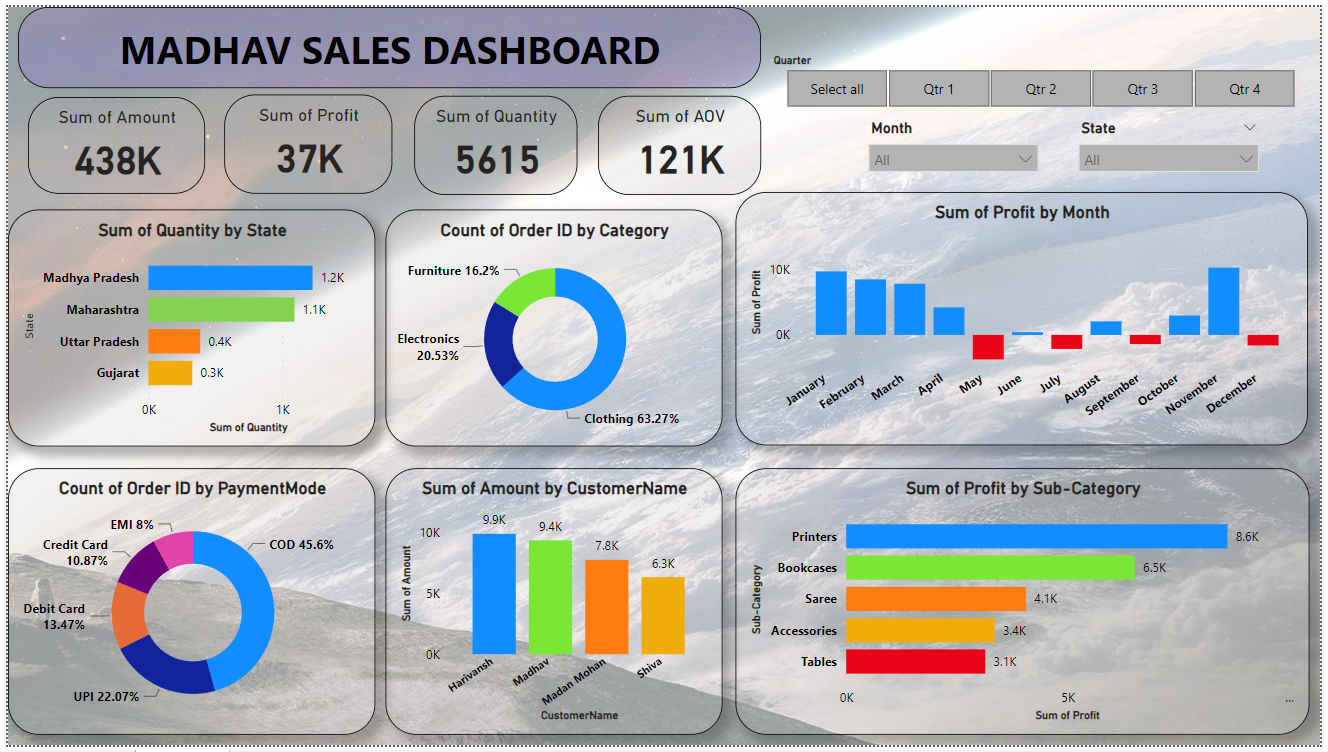

This screenshot's page, from the dashboard's own definition file:
{"tool":"powerbi","page":{"name":"Page 1","canvas":[1280,720],"ordinal":0},"visuals":[{"type":"donutChart","fields":{"Category":["Details.Category"],"Y":["Details.Order ID"]},"box":[368.6,197.1,328.6,231.4],"z":0},{"type":"barChart","fields":{"Category":["Orders.State"],"Y":["Details.Quantity"]},"box":[0,197.1,358.6,231.4],"z":1000},{"type":"card","title":"Sum of Amount","fields":{"Values":["Details.Amount"]},"box":[19.2,87.8,172.9,94.7],"z":2000},{"type":"card","title":"Sum of Profit","fields":{"Values":["Details.Profit"]},"box":[211.1,85.6,164,96.5],"z":3000},{"type":"card","title":"Sum of Quantity","fields":{"Values":["Details.Quantity"]},"box":[396.8,86.8,159.2,96.5],"z":4000},{"type":"donutChart","fields":{"Category":["Details.PaymentMode"],"Y":["Details.Order ID"]},"box":[0,450,358.6,260],"z":5000},{"type":"clusteredColumnChart","fields":{"Category":["Orders.CustomerName"],"Y":["Details.Amount"]},"box":[368.6,450,328.6,260],"z":6000},{"type":"columnChart","fields":{"Category":["Orders.Order Date.Variation.Date Hierarchy.Month"],"Y":["Details.Profit"]},"box":[710.4,180.9,558.4,247.2],"z":7000},{"type":"barChart","fields":{"Category":["Details.Sub-Category"],"Y":["Details.Profit"]},"box":[710,450,560,260],"z":8000},{"type":"slicer","fields":{"Values":["Orders.Order Date.Variation.Date Hierarchy.Quarter"]},"box":[734.5,39.8,545.1,63.9],"z":9000},{"type":"slicer","fields":{"Values":["Orders.Order Date.Variation.Date Hierarchy.Month"]},"box":[829,104.9,185.7,57.9],"z":10000},{"type":"slicer","fields":{"Values":["Orders.State"]},"box":[1033.6,104.9,196.6,59.1],"z":11000},{"type":"textbox","box":[9.6,0,724.5,79.6],"z":12000},{"type":"card","title":"Sum of AOV","fields":{"Values":["Details.Sum of AOV"]},"box":[575.3,86.8,159.2,96.5],"z":13000}]}

Visuals, with their boxes in screenshot pixels (x1, y1, x2, y2), scaled from the page's 1280x720 canvas onto the 1328x752 screenshot:
donutChart - Details.Category x Details.Order ID: (x1=382, y1=206, x2=723, y2=448)
barChart - Orders.State x Details.Quantity: (x1=0, y1=206, x2=372, y2=448)
"Sum of Amount" card: (x1=20, y1=92, x2=199, y2=191)
"Sum of Profit" card: (x1=219, y1=89, x2=389, y2=190)
"Sum of Quantity" card: (x1=412, y1=91, x2=577, y2=191)
donutChart - Details.PaymentMode x Details.Order ID: (x1=0, y1=470, x2=372, y2=742)
clusteredColumnChart - Orders.CustomerName x Details.Amount: (x1=382, y1=470, x2=723, y2=742)
columnChart - Orders.Order Date.Variation.Date Hierarchy.Month x Details.Profit: (x1=737, y1=189, x2=1316, y2=447)
barChart - Details.Sub-Category x Details.Profit: (x1=737, y1=470, x2=1318, y2=742)
slicer - Orders.Order Date.Variation.Date Hierarchy.Quarter: (x1=762, y1=42, x2=1327, y2=108)
slicer - Orders.Order Date.Variation.Date Hierarchy.Month: (x1=860, y1=110, x2=1053, y2=170)
slicer - Orders.State: (x1=1072, y1=110, x2=1276, y2=171)
textbox: (x1=10, y1=0, x2=762, y2=83)
"Sum of AOV" card: (x1=597, y1=91, x2=762, y2=191)
